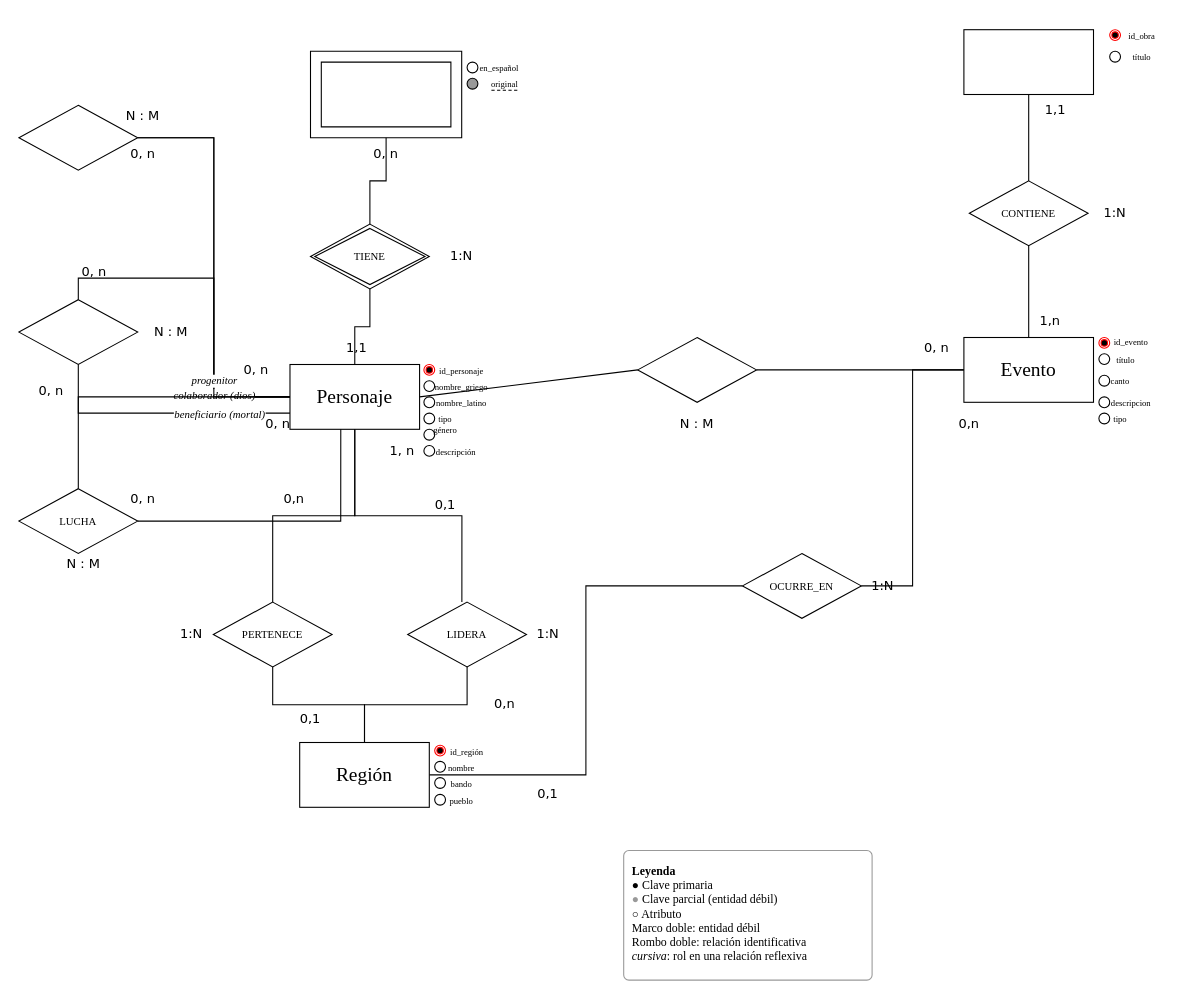
Image size: 1193x999. Some labels were removed from this diagram. Here are the shapes that lost their labels. From the top down, the centre of each, then its label:
At (1028,61): "Obra".
At (385,94): "Epíteto".
At (78,137): "ES_PROGENITOR".
At (78,331): "COLABORA".
At (697,369): "PARTICIPA".
